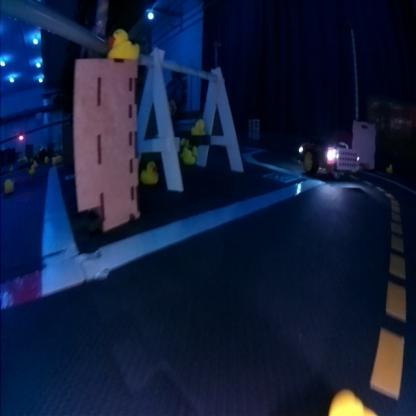Duckie: (108, 28, 140, 58), (142, 160, 160, 184), (193, 119, 207, 132), (388, 164, 394, 171)
Duckiebot: (300, 140, 360, 176)
